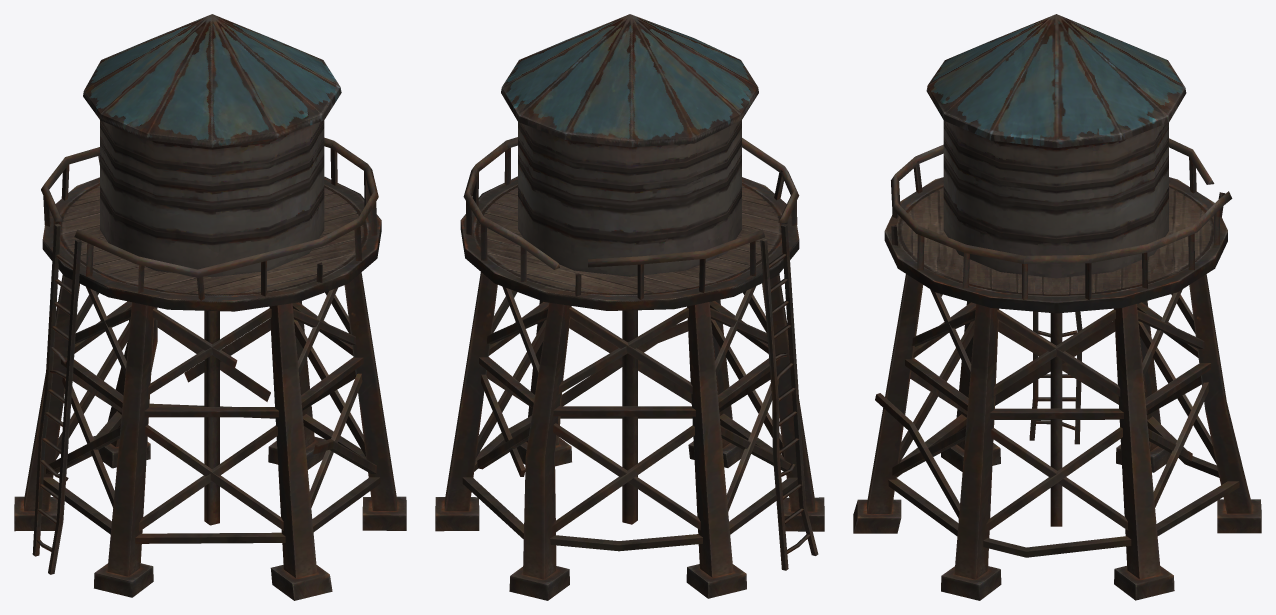
Rendered from Stage-muwu-shuita.FBX.
The picture shows the model from 3 angles, left to right: view 1: azimuth 30°, elevation 25°; view 2: azimuth 150°, elevation 25°; view 3: azimuth 270°, elevation 25°; orthographic projection.
Visible parts, largest first — view 1: Object002; view 2: Object002; view 3: Object002.
Boxes of the visible parts, left/top/right/bottom form: Object002: left=14, top=14, right=406, bottom=600; Object002: left=435, top=14, right=824, bottom=600; Object002: left=853, top=14, right=1261, bottom=600.
Bounding box in the file's own units: 4.82 × 7.06 × 5.12.
Materials: 1 (1 with a texture image).
